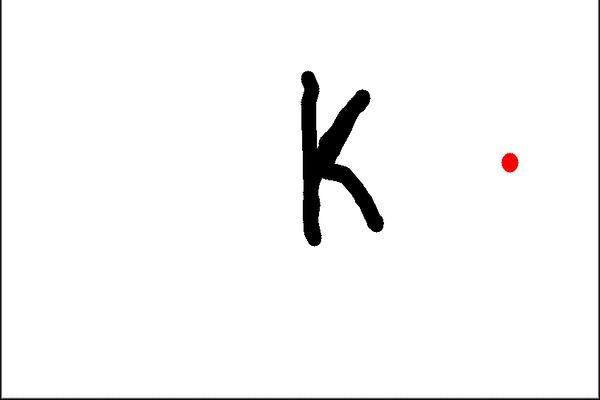K: (290, 64, 392, 252)
